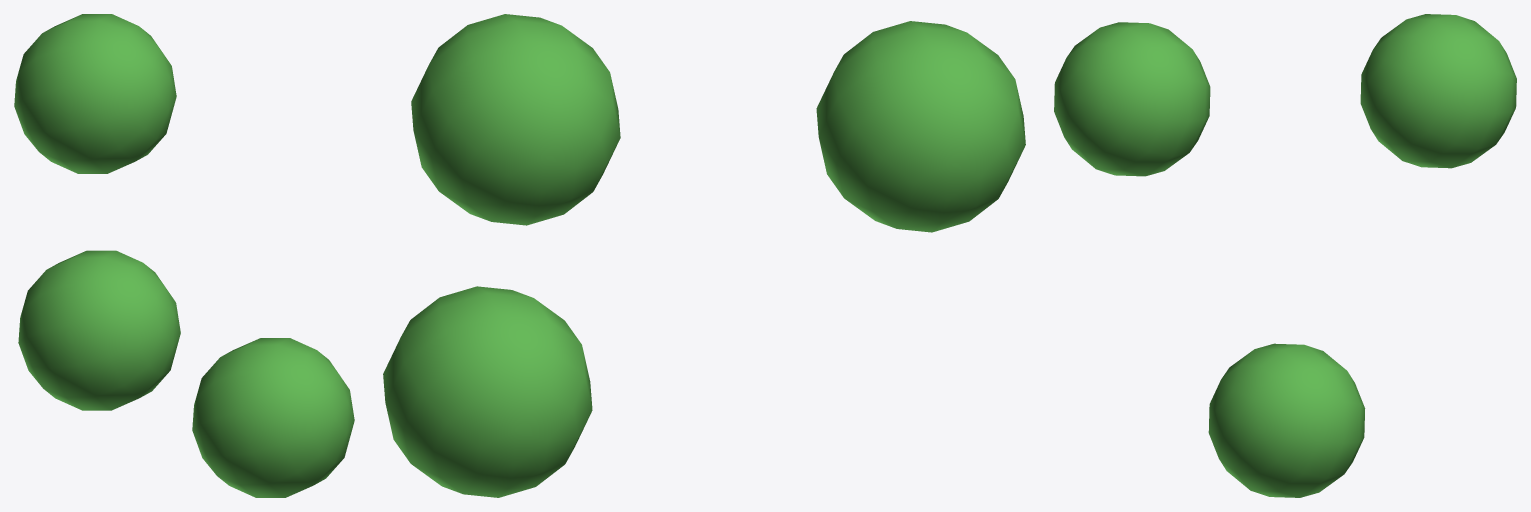
The model's file is linfatico-bucinator-node-l.glb.
3 views of the same model, side by side, from view 1: azimuth 30°, elevation 25°; view 2: azimuth 150°, elevation 25°; view 3: azimuth 270°, elevation 25° (orthographic). The views are drawn at different scales.
Visible parts, largest first — view 1: Bucinator node.l; view 2: Bucinator node.l; view 3: Bucinator node.l.
Part boxes in pixels (box(x1,y1,x2,y2)): Bucinator node.l: box(14, 14, 354, 497); Bucinator node.l: box(383, 14, 1025, 497); Bucinator node.l: box(1054, 14, 1516, 497).
Bounding box in the file's own units: 0.00723 × 0.0077 × 0.00758.
